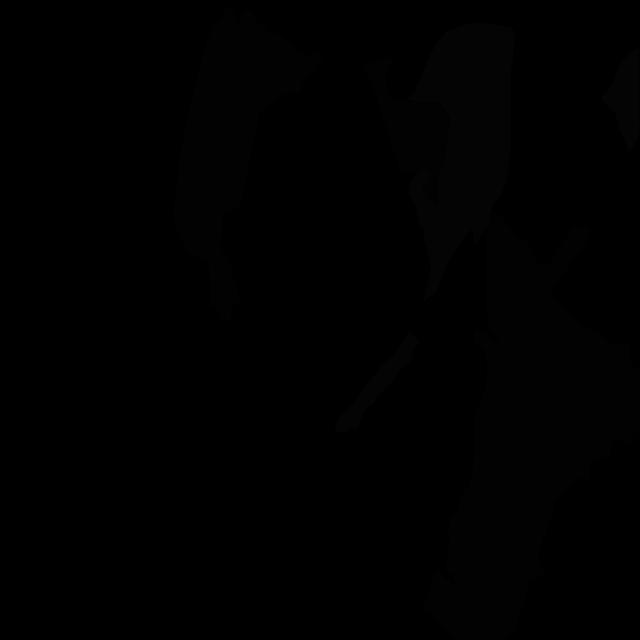cardboard: (446, 210, 640, 599), (173, 7, 324, 321), (363, 56, 450, 206), (422, 566, 530, 640), (532, 501, 555, 539)
soft_plastic: (407, 23, 514, 303), (334, 331, 420, 433), (600, 48, 640, 152)
